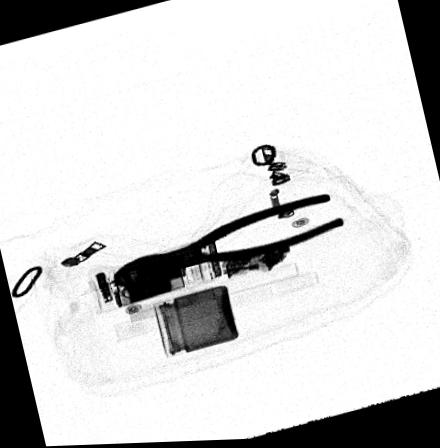Pliers: (112, 196, 347, 290)
